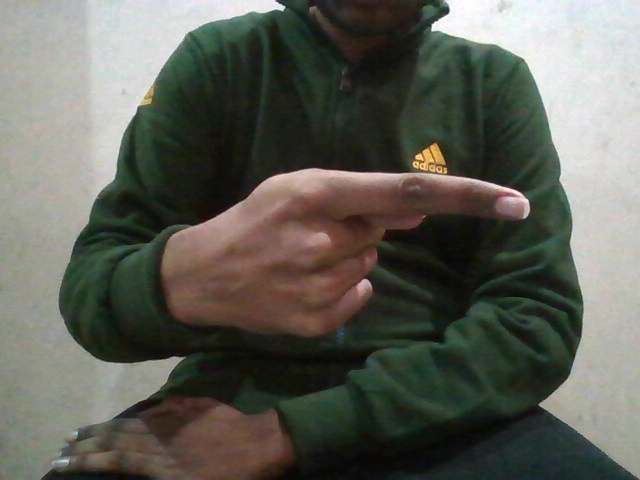G: (166, 169, 534, 336)
